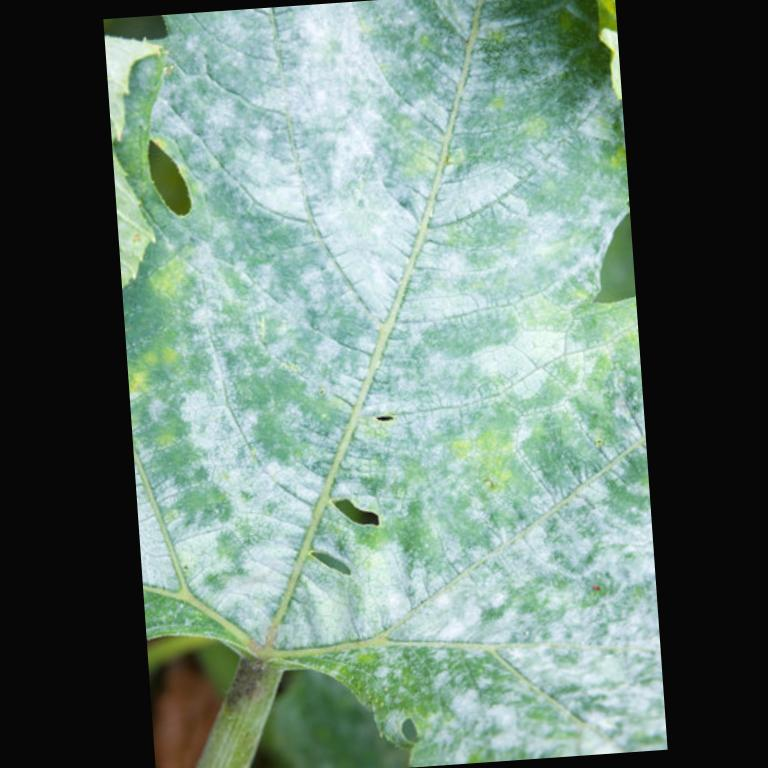powdery-mildew: (190, 36, 445, 336), (140, 389, 328, 631)
